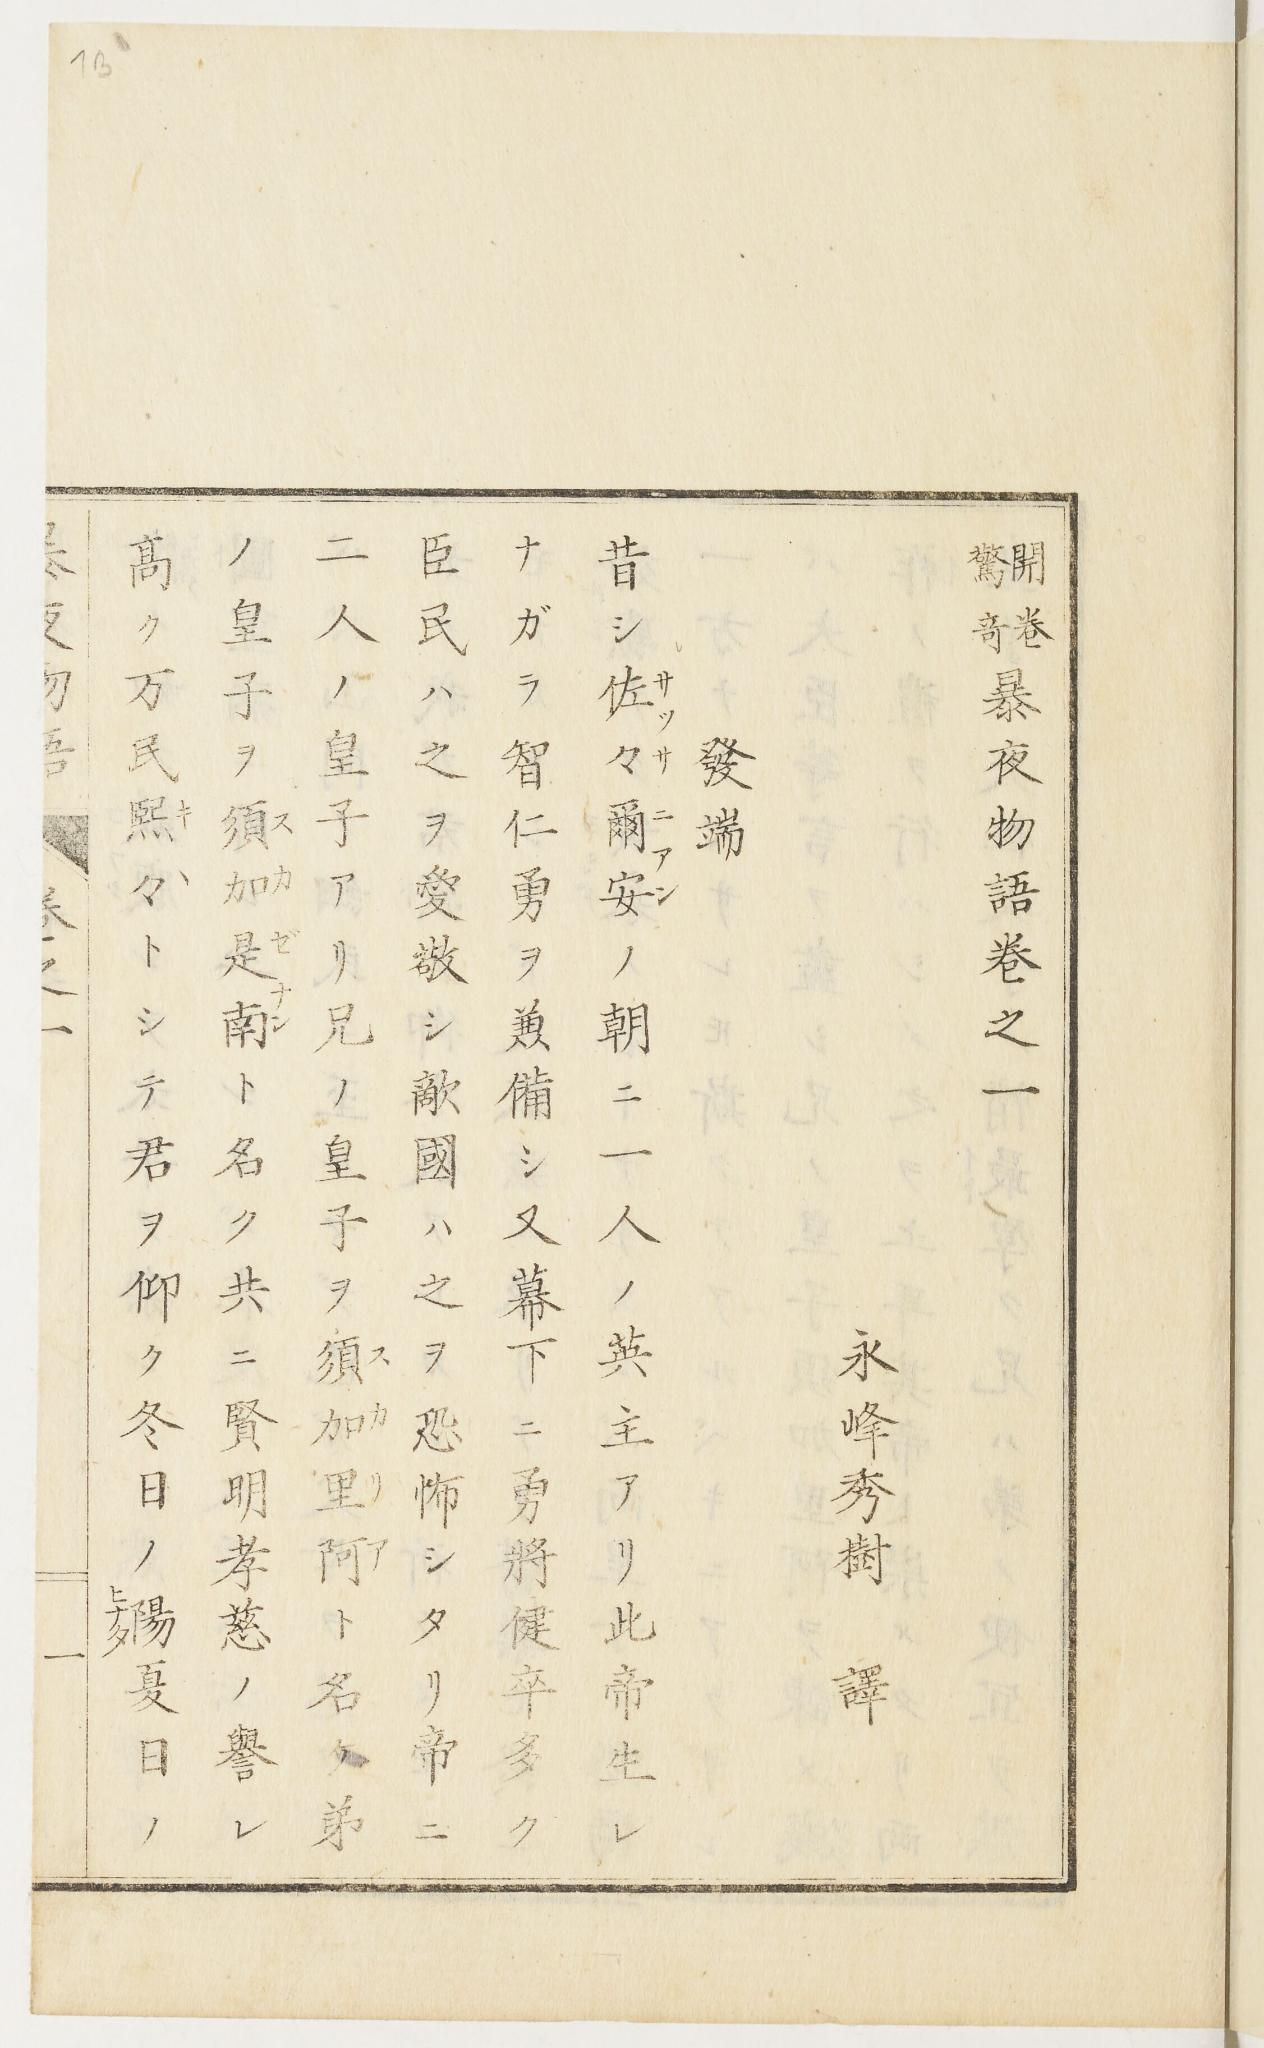MainZone-Character: (598, 790, 679, 867), (310, 1521, 401, 1590), (215, 920, 304, 986), (601, 663, 685, 730), (218, 985, 300, 1052), (309, 1330, 395, 1393), (218, 796, 300, 853), (310, 1457, 391, 1513), (600, 869, 683, 922), (315, 1401, 394, 1453), (604, 736, 680, 788), (124, 793, 196, 846), (218, 865, 298, 911)
MainZone-Ruby: (648, 803, 676, 866), (266, 983, 297, 1034), (654, 669, 679, 731), (269, 802, 303, 843), (363, 1337, 398, 1372), (268, 920, 304, 954), (271, 866, 298, 901), (364, 1466, 388, 1505), (655, 879, 688, 907), (370, 1536, 394, 1574), (367, 1396, 389, 1435), (173, 794, 196, 831), (650, 742, 677, 772)
